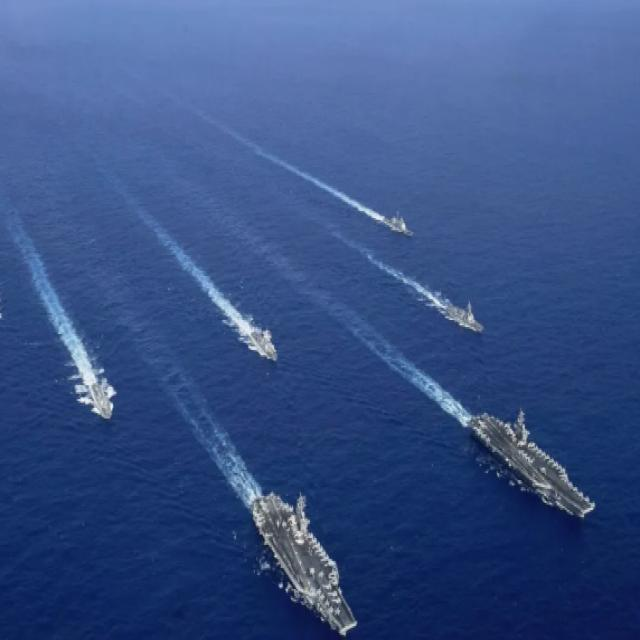navalvessels: (243, 467, 364, 640), (464, 386, 600, 525), (70, 340, 128, 420), (432, 289, 494, 329), (238, 302, 284, 353), (384, 203, 414, 240), (0, 278, 7, 332)
